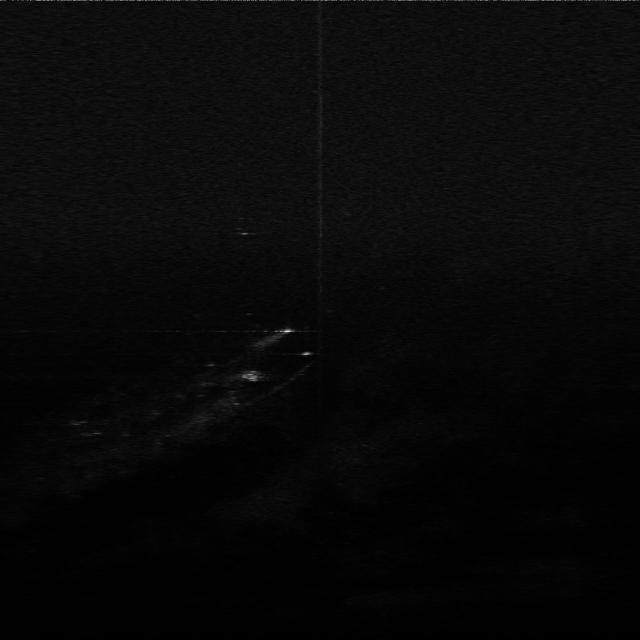rov: (234, 368, 268, 387)
